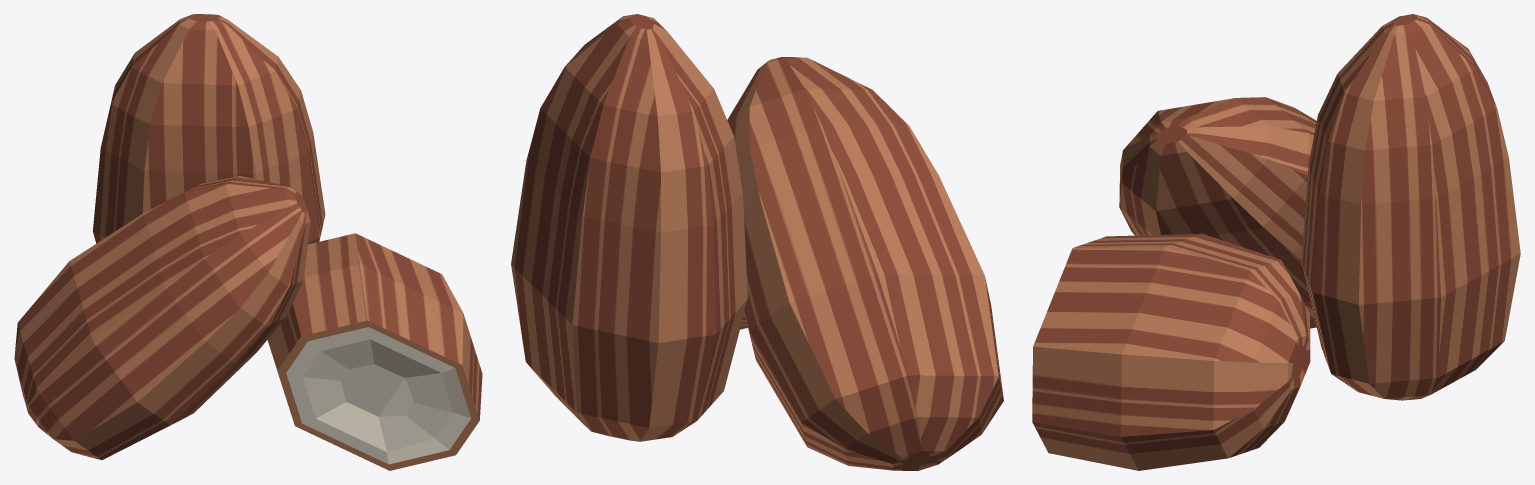
File: wholeAlmond.fbx
The picture shows the model from 3 angles, left to right: view 1: azimuth 30°, elevation 25°; view 2: azimuth 150°, elevation 25°; view 3: azimuth 270°, elevation 25°; orthographic projection. The views are drawn at different scales.
Parts seen in each view (by area): view 1: wholeAlmond; view 2: wholeAlmond; view 3: wholeAlmond.
Part boxes in pixels (<box>): wholeAlmond: <box>14,14,482,470</box>; wholeAlmond: <box>511,14,1003,470</box>; wholeAlmond: <box>1032,14,1520,470</box>.
Size of the model in its own units: 2.64 by 2.29 by 2.54.
Materials: 2 (1 with a texture image).
